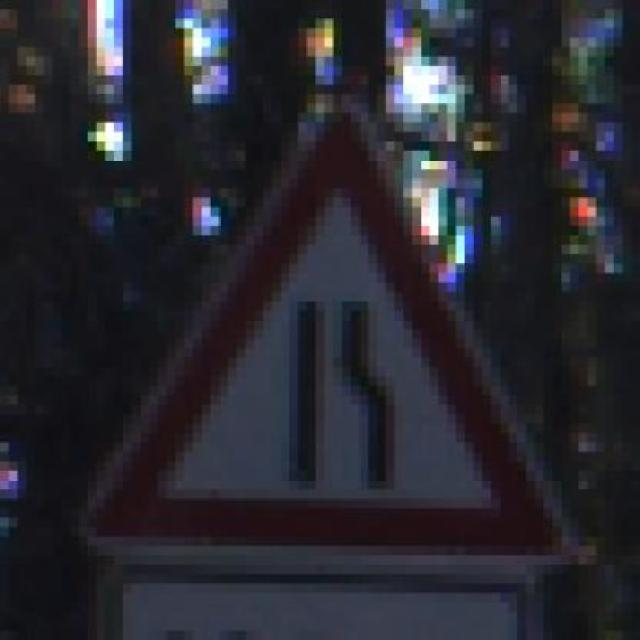-Road narrows on right: (78, 75, 588, 583)
